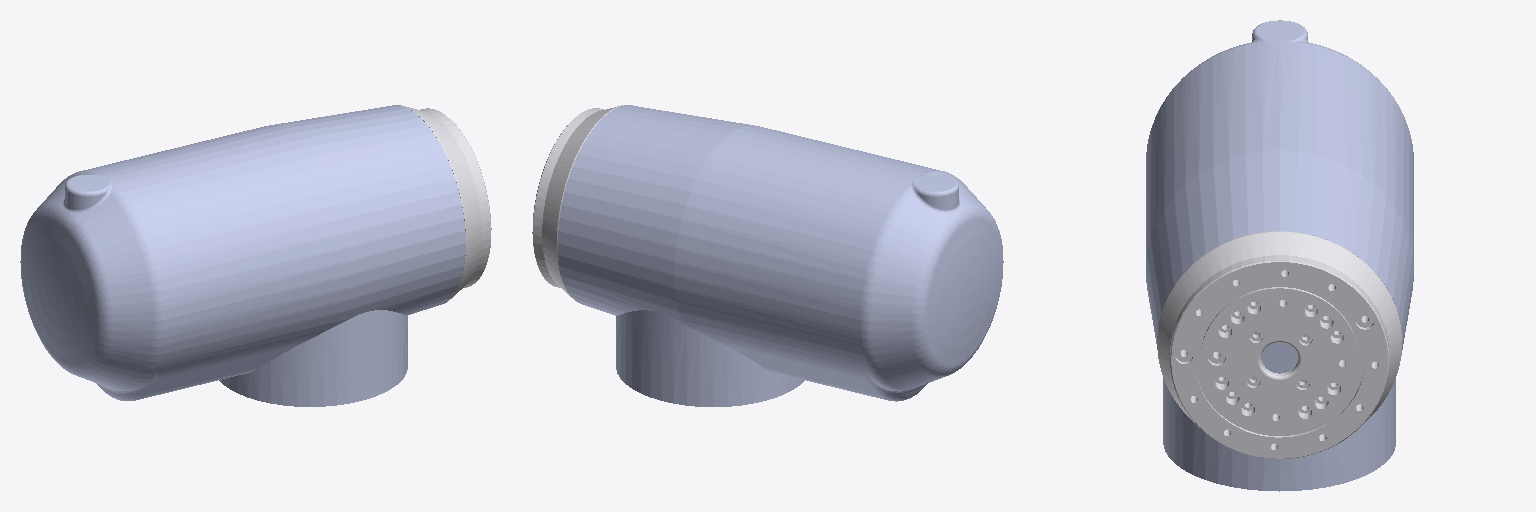
robot.urdf — awjoint1750:
<?xml version="1.0" encoding="utf-8"?>
<!-- This URDF was automatically created by SolidWorks to URDF Exporter! Originally created by [author] ([email redacted]) 
     Commit Version: 1.5.1-0-g916b5db  Build Version: 1.5.7152.31018
     For more information, please see http://wiki.ros.org/sw_urdf_exporter -->
<robot
  name="awjoint1750">
  <link
    name="rifJ17">
    <inertial>
      <origin
        xyz="-0.01362 0 -0.070101"
        rpy="0 0 0" />
      <mass
        value="2.9" />
      <inertia
        ixx="0.0054767"
        ixy="1.963E-05"
        ixz="0.00015375"
        iyy="0.008238"
        iyz="0"
        izz="0.0076285" />
    </inertial>
    <visual>
      <origin
        xyz="0 0 0"
        rpy="3.14 0 0" />
      <geometry>
        <mesh
          filename="package://awjoint1750/meshes/rifJ17.STL" />
      </geometry>
      <material
        name="">
        <color
          rgba="0.79216 0.81961 0.93333 1" />
      </material>
    </visual>
    <collision>
      <origin
        xyz="0 0 0"
        rpy="3.14 0 0" />
      <geometry>
        <mesh
          filename="package://awjoint1750/meshes/rifJ17.STL" />
      </geometry>
    </collision>
  </link>
  <link
    name="J17">
    <inertial>
      <origin
        xyz="0 0 -0.0108"
        rpy="0 0 0" />
      <mass
        value="0.35" />
      <inertia
        ixx="0.00026398"
        ixy="0"
        ixz="0"
        iyy="0.00026449"
        iyz="0"
        izz="0.00049327" />
    </inertial>
    <visual>
      <origin
        xyz="0 0 0"
        rpy="0 0 0" />
      <geometry>
        <mesh
          filename="package://awjoint1750/meshes/J17.STL" />
      </geometry>
      <material
        name="">
        <color
          rgba="0.8902 0.8902 0.91373 1" />
      </material>
    </visual>
    <collision>
      <origin
        xyz="0 0 0"
        rpy="0 0 0" />
      <geometry>
        <mesh
          filename="package://awjoint1750/meshes/J17.STL" />
      </geometry>
    </collision>
  </link>
  <joint
    name="J17"
    type="revolute">
    <origin
      xyz="0.08 0 +0.076"
      rpy="0 1.5708 0" />
    <parent
      link="rifJ17" />
    <child
      link="J17" />
    <axis
      xyz="0 0 -1" />
    <limit
      lower="-3.14"
      upper="3.14"
      effort="37"
      velocity="6.36" />
    <dynamics
      damping="1"
      friction="0.1" />
  </joint>
</robot>

--- What the picture shows (computed from the rendered views, not written in the file) ---
The picture shows the robot from 3 angles, left to right: view 1: azimuth 30°, elevation 25°; view 2: azimuth 150°, elevation 25°; view 3: azimuth 270°, elevation 25°; orthographic projection.
Model awjoint1750 with 2 links and 1 joints (1 revolute), rooted at rifJ17, posed every joint at zero.
Links seen in each view (by area): view 1: rifJ17, J17; view 2: rifJ17, J17; view 3: rifJ17, J17.
Link boxes in pixels (left/top/right/bottom): rifJ17: left=20, top=105, right=465, bottom=406; J17: left=398, top=105, right=491, bottom=304; rifJ17: left=558, top=105, right=1003, bottom=406; J17: left=532, top=105, right=632, bottom=301; rifJ17: left=1146, top=20, right=1413, bottom=491; J17: left=1157, top=231, right=1401, bottom=458.
Size in the robot's own frame: 0.231 by 0.115 by 0.1336 metres.
Meshes: 2 distinct files referenced, 2 mesh visuals loaded (2 binary STL).
